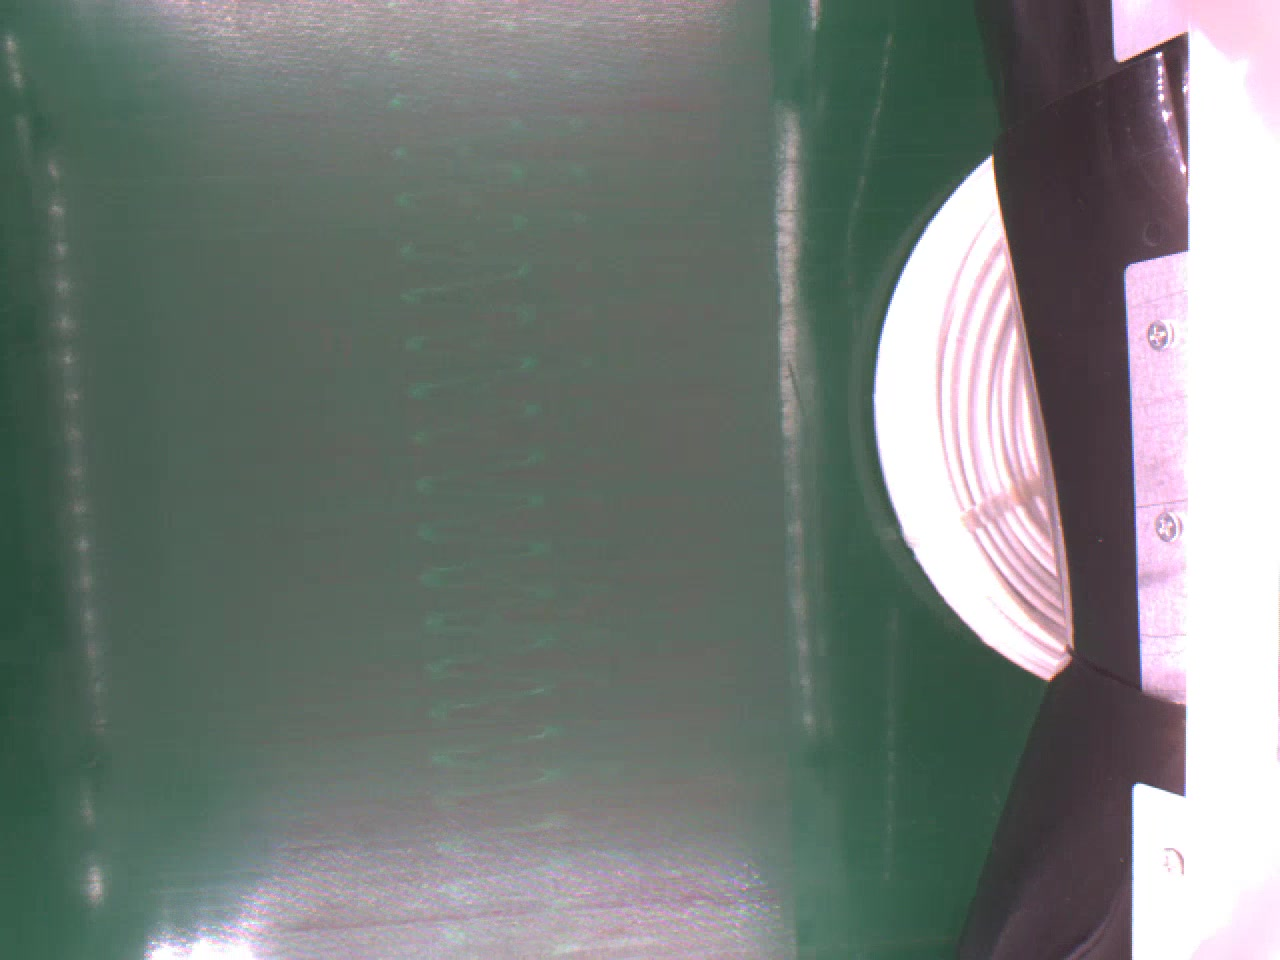white: (875, 154, 1073, 678)
